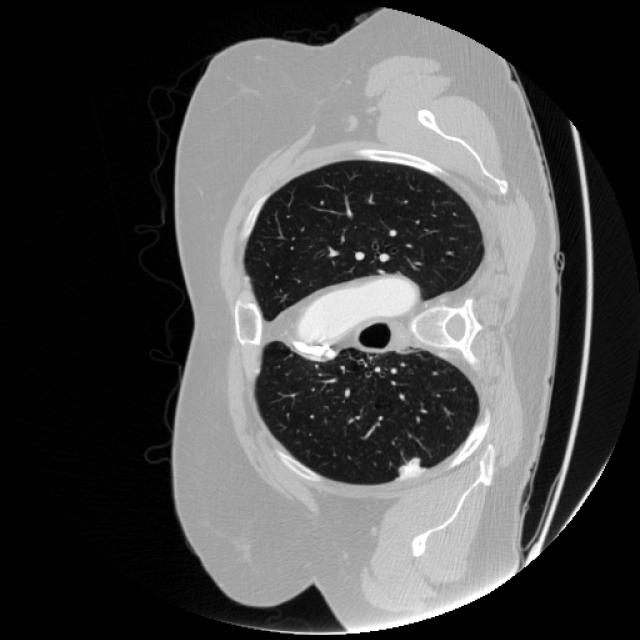nodule: (381, 441, 439, 499)
